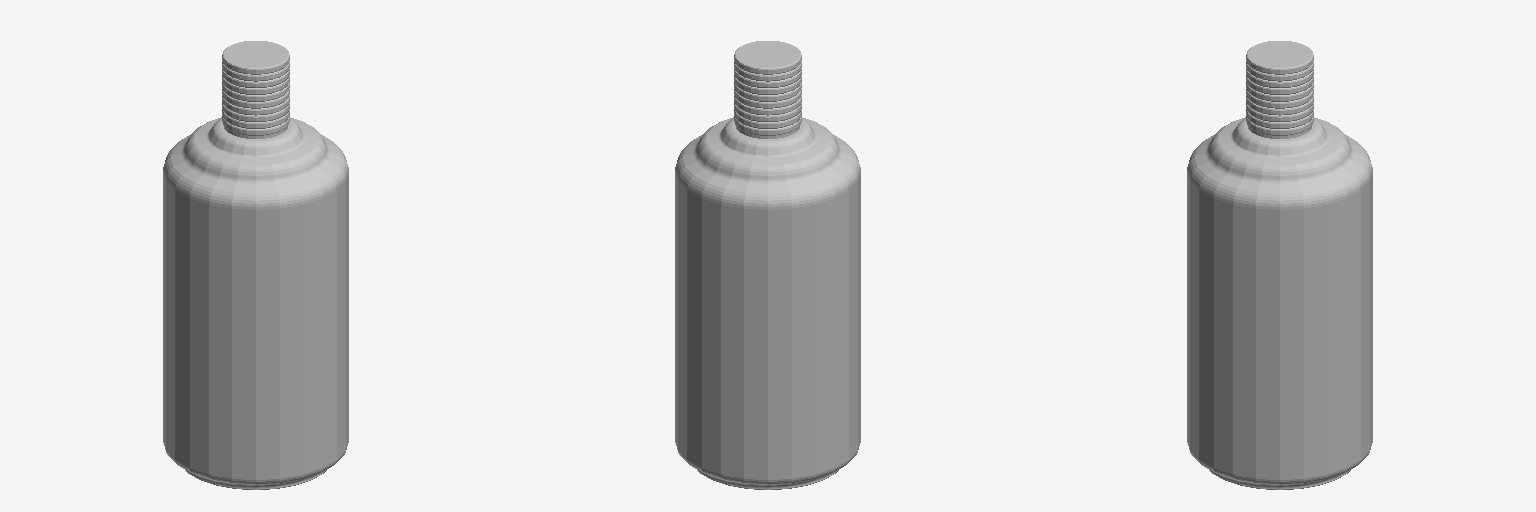
The model's file is ping.obj.
3 renders of one model, left to right at view 1: azimuth 30°, elevation 25°; view 2: azimuth 150°, elevation 25°; view 3: azimuth 270°, elevation 25°, orthographic.
Visible parts, largest first — view 1: tietu, pingsshen, pinggai; view 2: tietu, pingsshen, pinggai; view 3: tietu, pingsshen, pinggai.
Part boxes in pixels (x1,y1,x2,y2): tietu: (163, 172, 348, 478); pingsshen: (163, 117, 348, 489); pinggai: (222, 41, 289, 138); tietu: (675, 172, 860, 478); pingsshen: (675, 117, 860, 489); pinggai: (734, 41, 801, 138); tietu: (1187, 172, 1372, 478); pingsshen: (1187, 117, 1372, 489); pinggai: (1246, 41, 1313, 138).
Bounding box in the file's own units: 8.29 × 19.83 × 8.29.